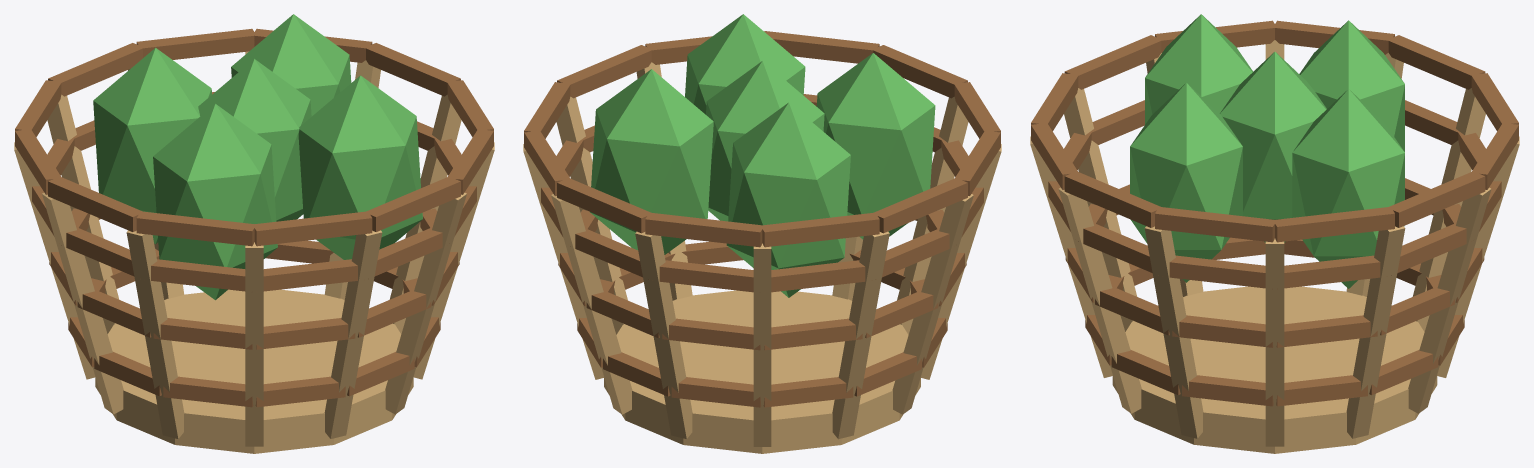
The model's file is TR3_ProduceBasket_Pechay.glb.
3 views of the same model, side by side, from view 1: azimuth 30°, elevation 25°; view 2: azimuth 150°, elevation 25°; view 3: azimuth 270°, elevation 25° (orthographic). The views are drawn at different scales.
Parts seen in each view (by area): view 1: TR3_ProduceBasket_Pechay; view 2: TR3_ProduceBasket_Pechay; view 3: TR3_ProduceBasket_Pechay.
Part boxes in pixels (<box>): TR3_ProduceBasket_Pechay: <box>14,14,494,453</box>; TR3_ProduceBasket_Pechay: <box>523,14,1001,453</box>; TR3_ProduceBasket_Pechay: <box>1030,14,1519,453</box>.
Bounding box in the file's own units: 0.664 × 0.5 × 0.664.
